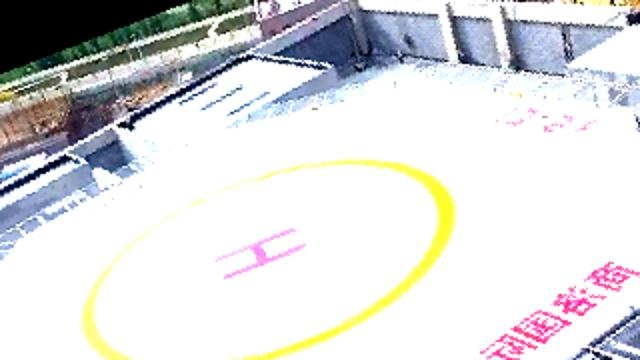Apron: (75, 144, 466, 360)
